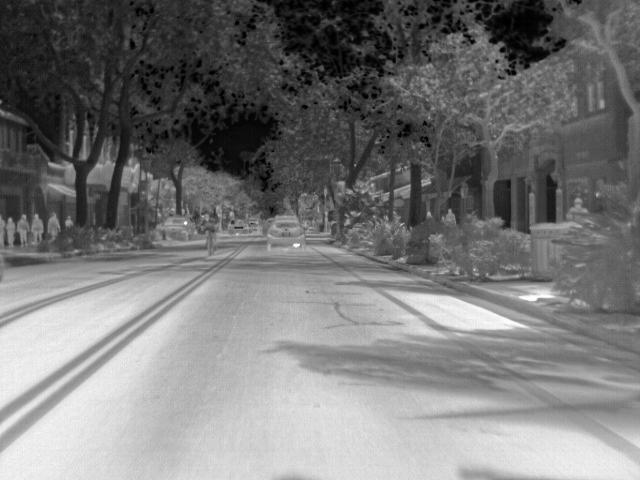car: (157, 214, 197, 242), (267, 222, 302, 251)
person: (566, 199, 592, 225), (30, 212, 46, 252), (47, 209, 62, 244), (18, 211, 31, 248), (204, 213, 219, 245), (5, 216, 18, 248), (443, 207, 459, 227), (63, 213, 76, 227)
